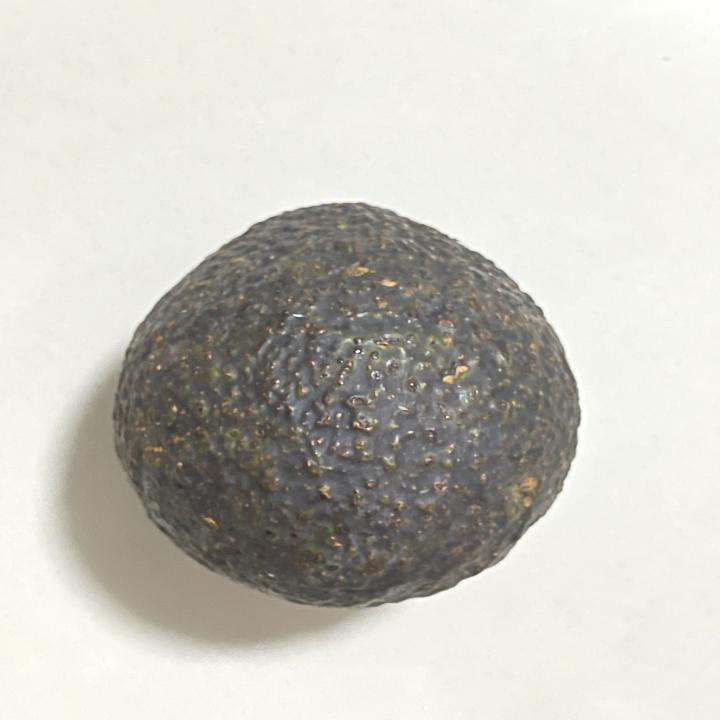Level2: (102, 194, 588, 614)
